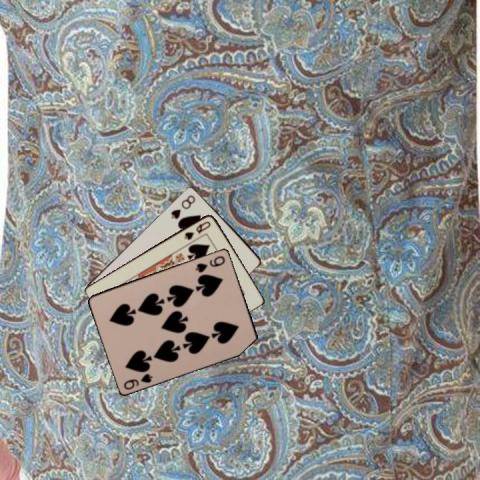8s: (168, 192, 197, 220)
9s: (192, 253, 227, 274), (121, 370, 154, 391)
Qs: (181, 218, 212, 242)
